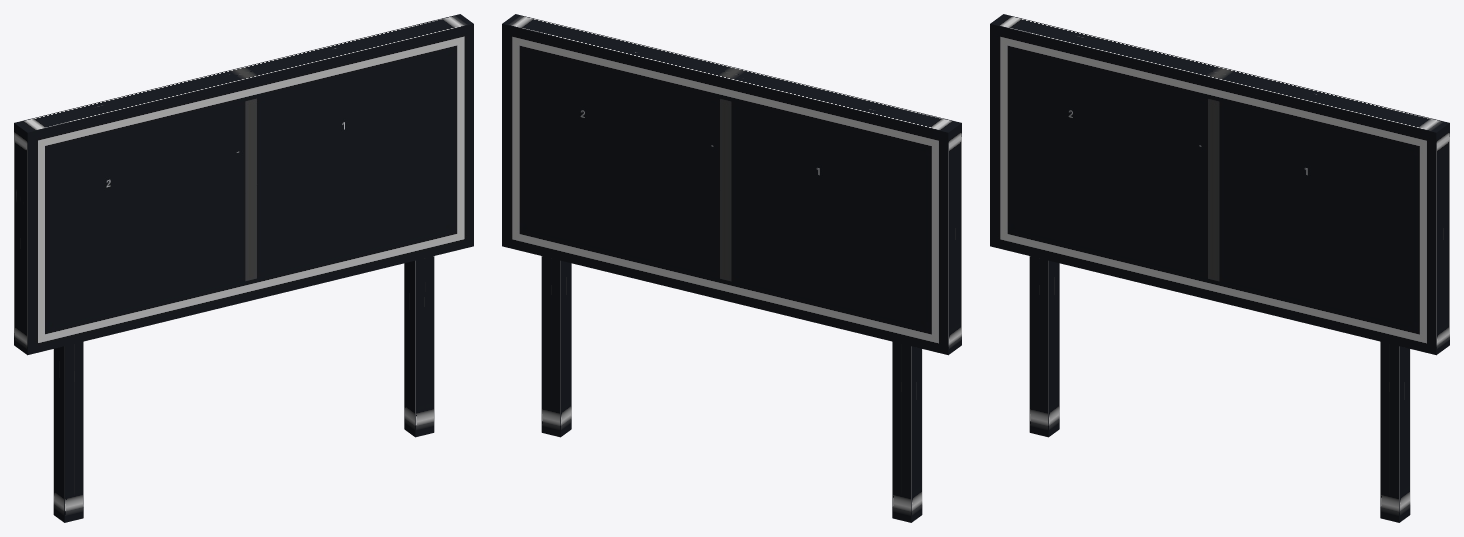
Rendered from Scoreboard.obj.
3 views of the same model, side by side, from view 1: azimuth 30°, elevation 25°; view 2: azimuth 150°, elevation 25°; view 3: azimuth 330°, elevation 25° (orthographic).
Parts seen in each view (by area): view 1: Scoreboard; view 2: Scoreboard; view 3: Scoreboard.
Boxes of the visible parts, x1=… form: Scoreboard: x1=14, y1=14, x2=473, y2=522; Scoreboard: x1=502, y1=14, x2=961, y2=522; Scoreboard: x1=990, y1=14, x2=1449, y2=522.
Size of the model in its own units: 4.2 by 3.6 by 0.22.
Materials: 1 (1 with a texture image).
